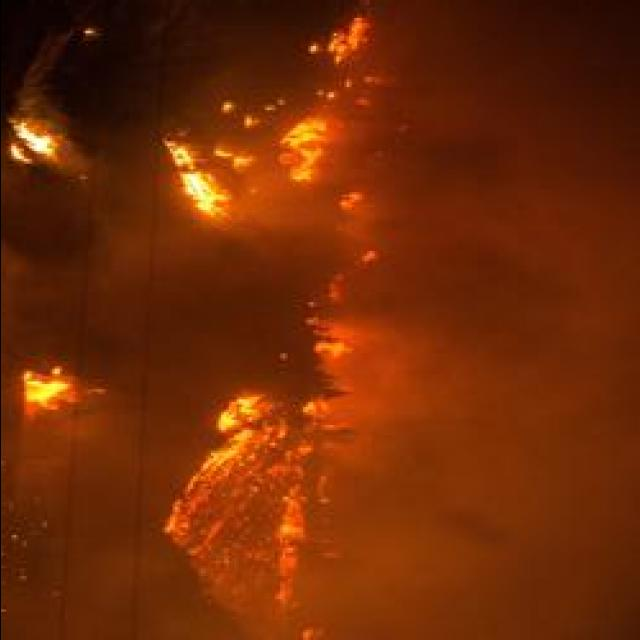fire: (166, 388, 320, 638), (156, 136, 234, 222), (278, 109, 328, 182), (1, 118, 66, 170), (18, 366, 80, 409), (322, 17, 372, 62)
smoke: (363, 300, 510, 638)
